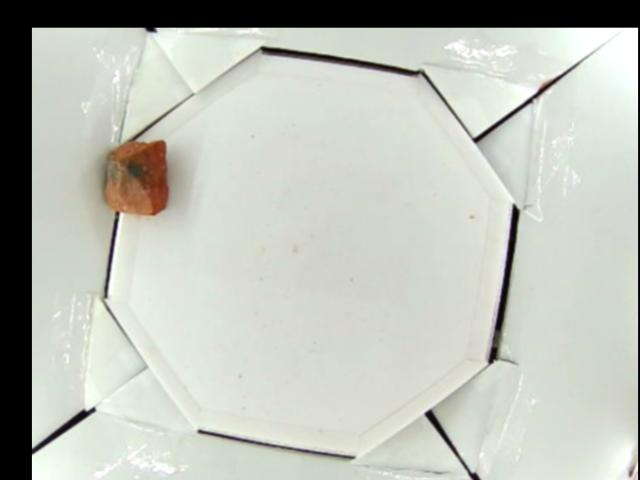Brisk: (101, 138, 171, 215)
